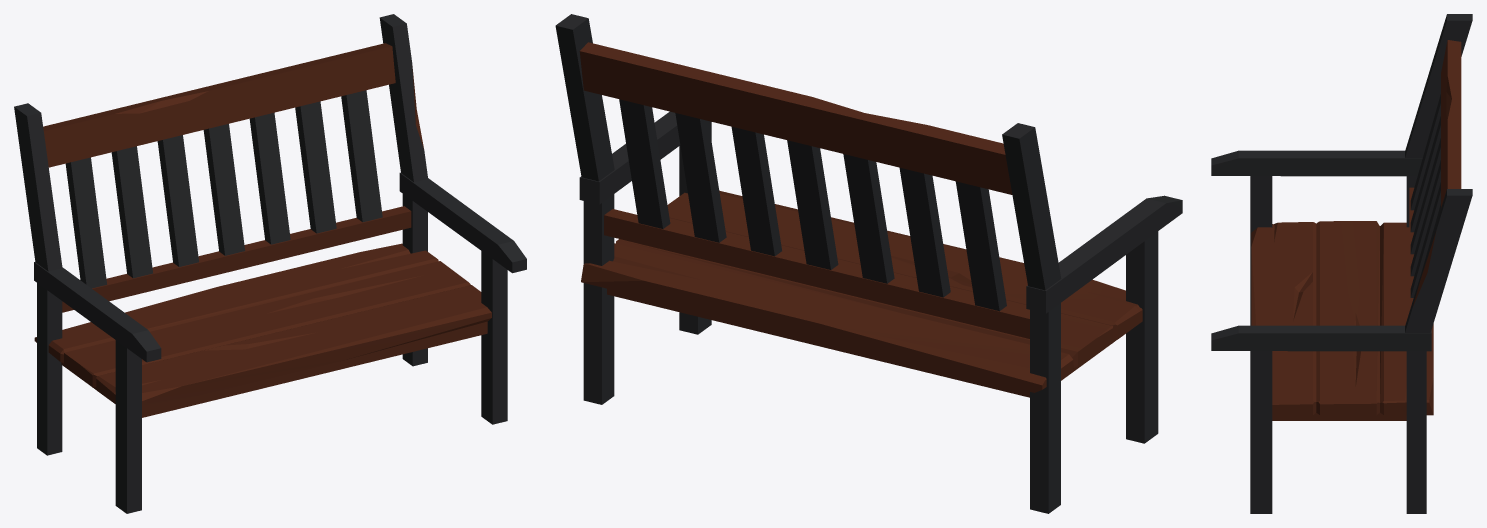
The model's file is Bench_1.fbx.
3 views of the same model, side by side, from view 1: azimuth 30°, elevation 25°; view 2: azimuth 150°, elevation 25°; view 3: azimuth 270°, elevation 25° (orthographic). The views are drawn at different scales.
Parts seen in each view (by area): view 1: Bench_1; view 2: Bench_1; view 3: Bench_1.
Part boxes in pixels (<box>): Bench_1: <box>14,14,526,513</box>; Bench_1: <box>555,14,1182,513</box>; Bench_1: <box>1211,14,1472,513</box>.
Bounding box in the file's own units: 47.1 × 38.22 × 28.44.
